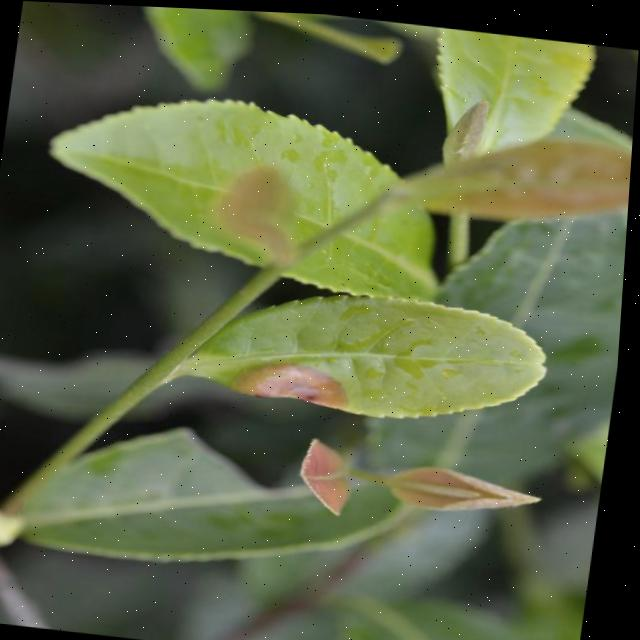Tea cake: (241, 358, 358, 421)
